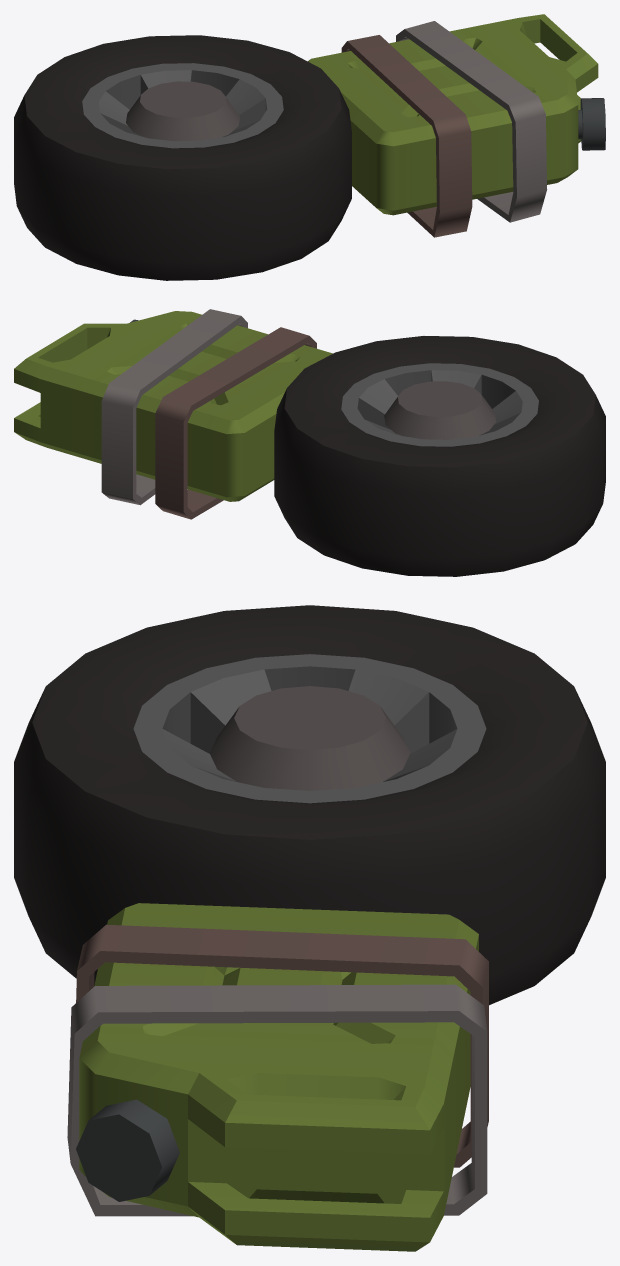
File: Apocalypse_Car_01_Supplies_01.fbx
3 views of the same model, one above another, from view 1: azimuth 30°, elevation 25°; view 2: azimuth 150°, elevation 25°; view 3: azimuth 270°, elevation 25° (orthographic). The views are drawn at different scales.
Parts seen in each view (by area): view 1: Apocalypse_Car_01_Supplies_01; view 2: Apocalypse_Car_01_Supplies_01; view 3: Apocalypse_Car_01_Supplies_01.
Part boxes in pixels (x1,y1,x2,y2): Apocalypse_Car_01_Supplies_01: (14, 14, 605, 280); Apocalypse_Car_01_Supplies_01: (14, 309, 605, 576); Apocalypse_Car_01_Supplies_01: (14, 605, 605, 1251).
Bounding box in the file's own units: 141 × 75.96 × 35.25.
